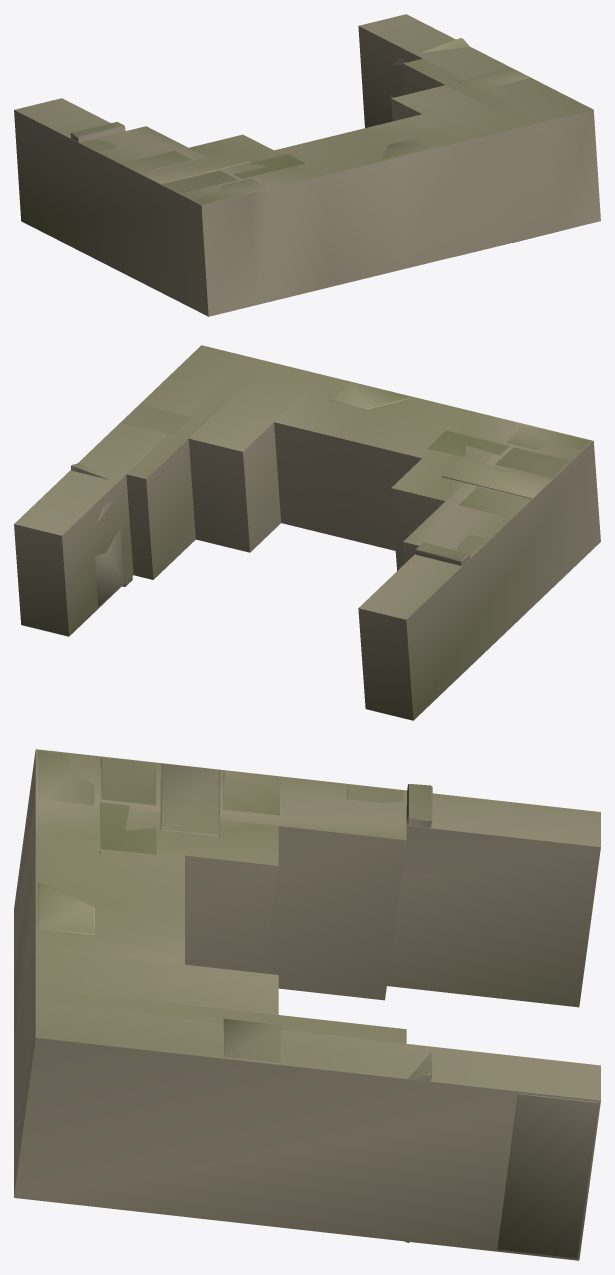
File: arena_fallen.glb
3 views of the same model, one above another, from view 1: azimuth 30°, elevation 25°; view 2: azimuth 150°, elevation 25°; view 3: azimuth 270°, elevation 25° (orthographic). The views are drawn at different scales.
Parts seen in each view (by area): view 1: arena_fallen_far, arena_fallen; view 2: arena_fallen_far, arena_fallen; view 3: arena_fallen_far, arena_fallen.
Part boxes in pixels (x1=…): arena_fallen_far: x1=14, y1=14, x2=600, y2=316; arena_fallen: x1=70, y1=38, x2=558, y2=255; arena_fallen_far: x1=14, y1=345, x2=600, y2=720; arena_fallen: x1=71, y1=382, x2=590, y2=606; arena_fallen_far: x1=14, y1=749, x2=600, y2=1260; arena_fallen: x1=38, y1=751, x2=598, y2=1258.
Bounding box in the file's own units: 19.21 × 6.91 × 16.49.
